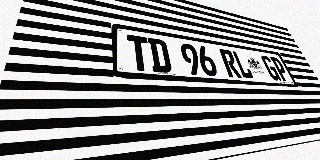6: (195, 45, 219, 76)
9: (179, 42, 203, 75)
D: (147, 37, 172, 73)
G: (260, 55, 282, 81)
L: (231, 51, 254, 79)
P: (270, 57, 291, 81)
R: (219, 49, 242, 78)
T: (126, 34, 152, 72)
